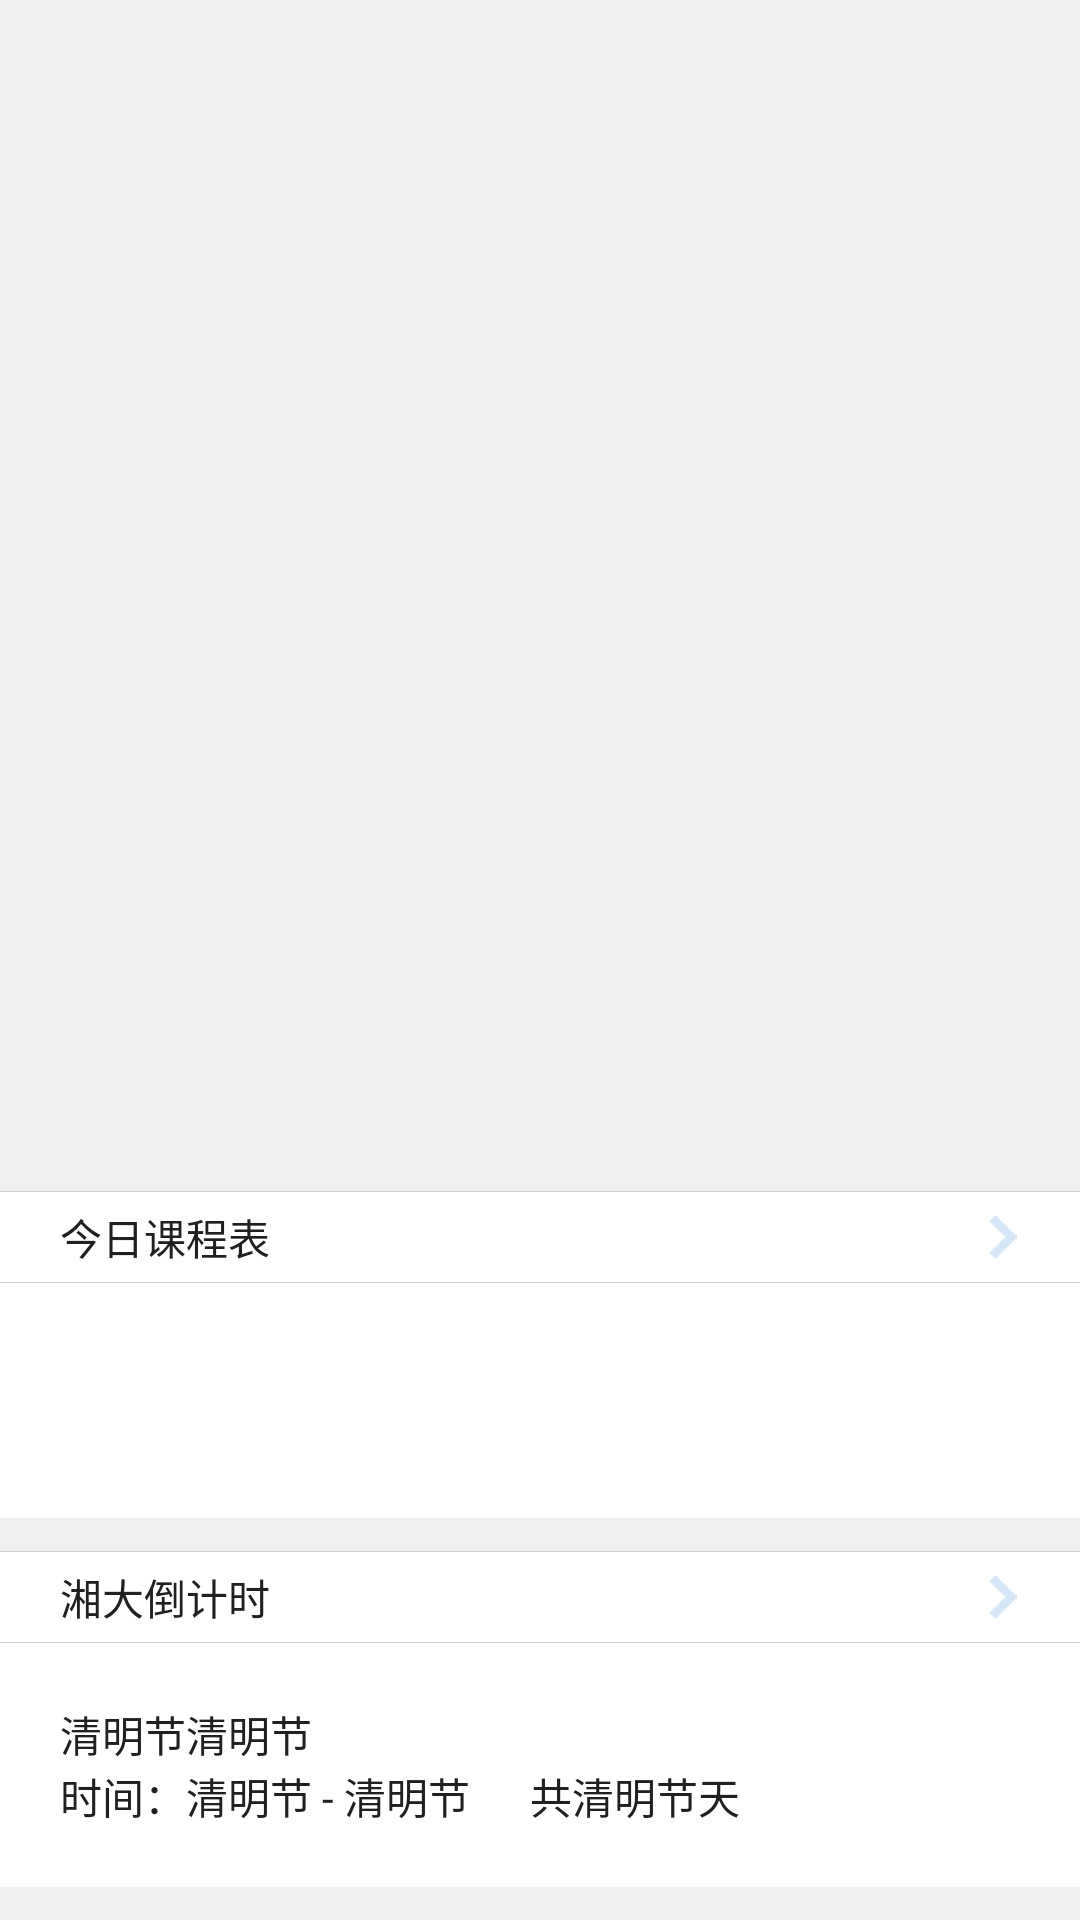

Icons on this 1080 × 1920 Android screen, each with its box as (x1, y1, x2, y2):
more: (990, 1216, 1017, 1258), (990, 1576, 1017, 1618)
